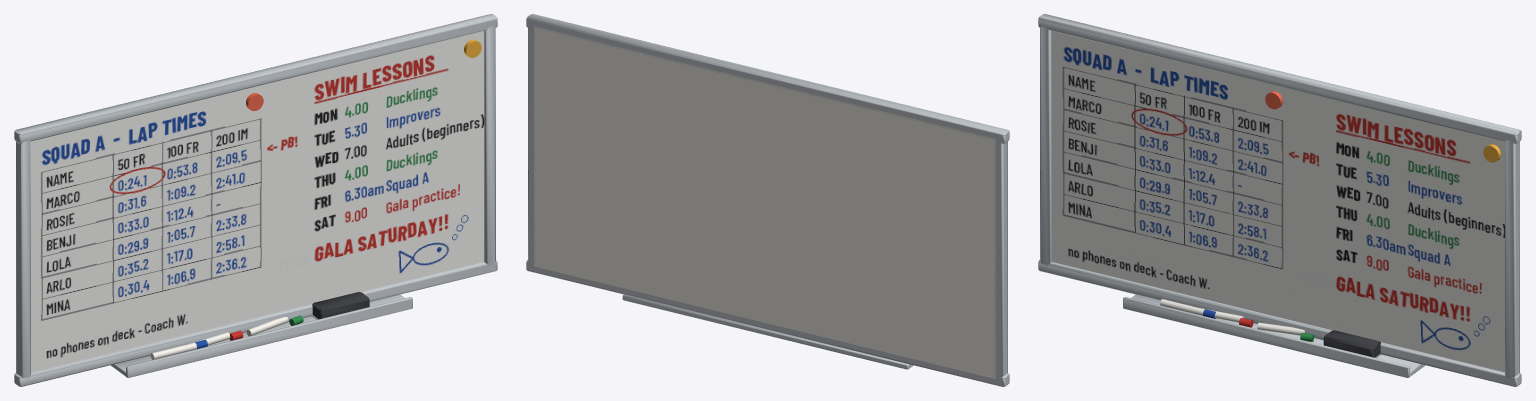
The model's file is whiteboard.glb.
3 views of the same model, side by side, from view 1: azimuth 30°, elevation 25°; view 2: azimuth 150°, elevation 25°; view 3: azimuth 330°, elevation 25° (orthographic).
Parts seen in each view (by area): view 1: WhiteboardBody; view 2: WhiteboardBody; view 3: WhiteboardBody.
Part boxes in pixels (left/top/right/bottom): WhiteboardBody: left=14, top=14, right=497, bottom=386; WhiteboardBody: left=526, top=14, right=1009, bottom=386; WhiteboardBody: left=1038, top=14, right=1521, bottom=386.
Size of the model in its own units: 1.34 by 0.695 by 0.085.
11 materials, 1 textured.
